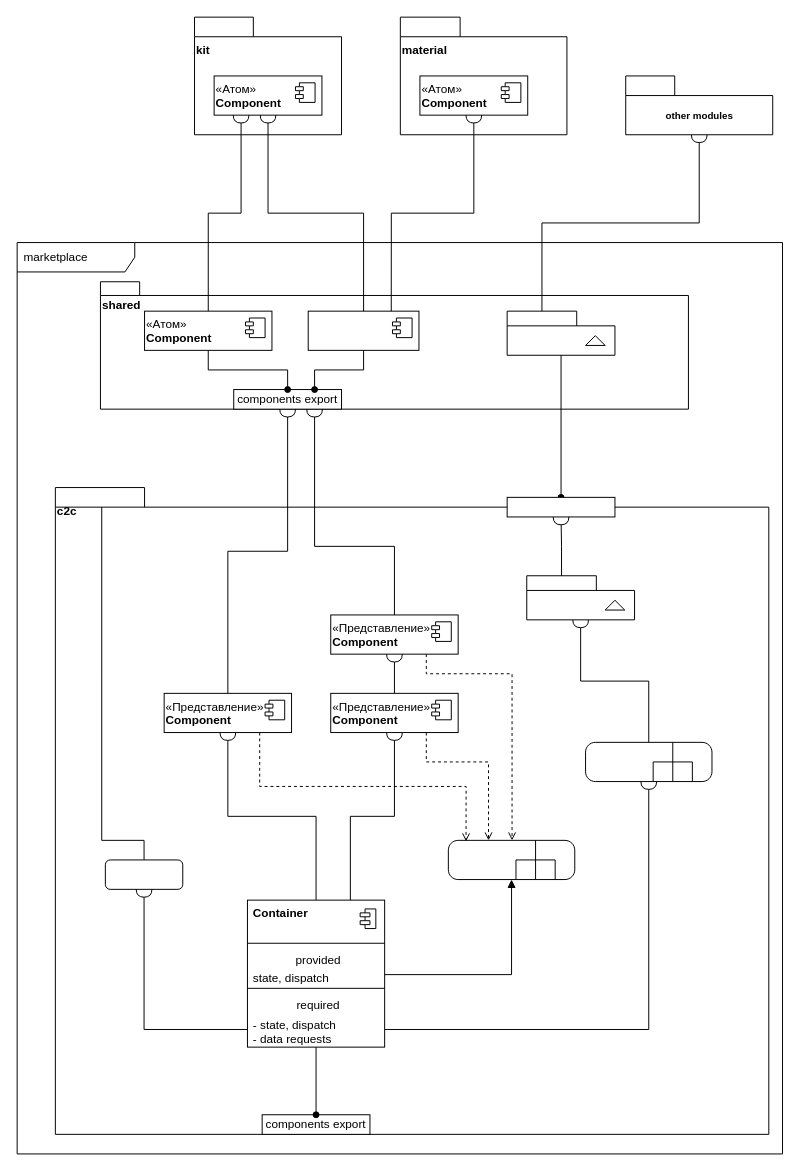
Some shapes in this 800 by 1171 pixel diagram are drawn without their labels. Each missing label, with the centre of its shape:
api interface: the point at 580,597
context provider: the point at 511,859
http interface: the point at 560,332
service provider: the point at 648,761
services import: the point at 560,506
store: the point at 143,874
«Малекула» Component: the point at 363,330
